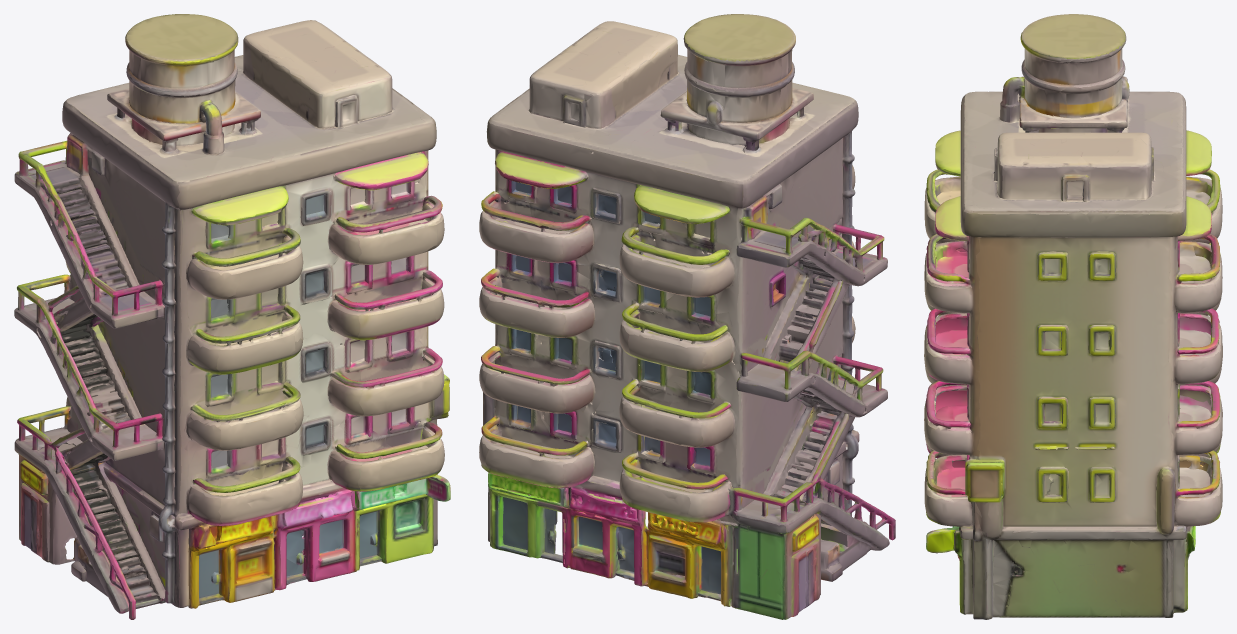
Rendered from u_bld_apartment_b.glb.
3 renders of one model, left to right at view 1: azimuth 30°, elevation 25°; view 2: azimuth 150°, elevation 25°; view 3: azimuth 270°, elevation 25°, orthographic. The views are drawn at different scales.
Visible parts, largest first — view 1: geometry_0; view 2: geometry_0; view 3: geometry_0.
Part boxes in pixels (x1=…): geometry_0: x1=14, y1=14, x2=450, y2=619; geometry_0: x1=479, y1=14, x2=895, y2=619; geometry_0: x1=924, y1=14, x2=1222, y2=619.
Bounding box in the file's own units: 0.2281 × 0.35 × 0.1933.
Materials: 1 (1 with a texture image).
